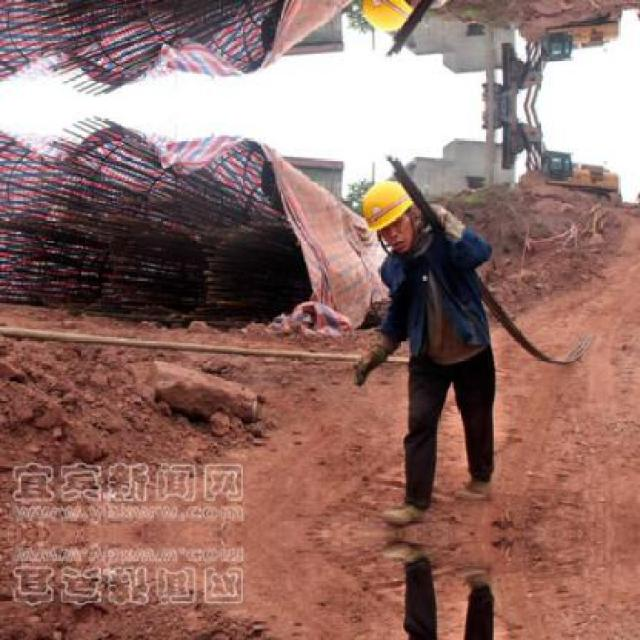helmet: (360, 175, 426, 252), (358, 0, 426, 35)
